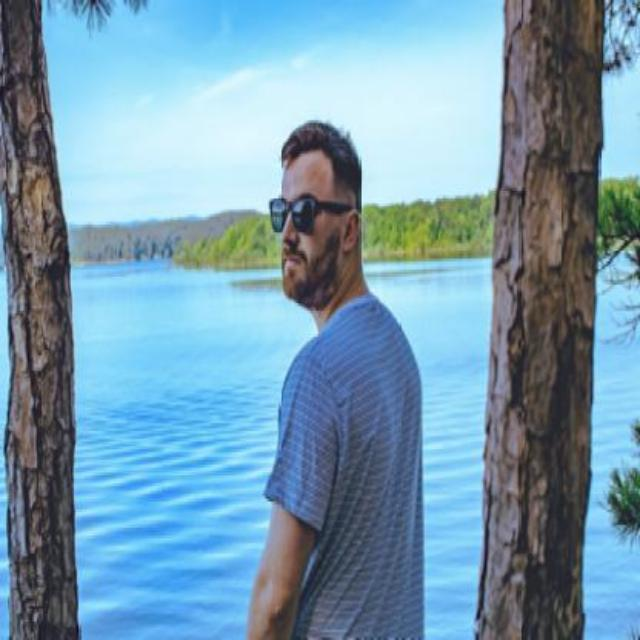glasses: (270, 196, 352, 232)
